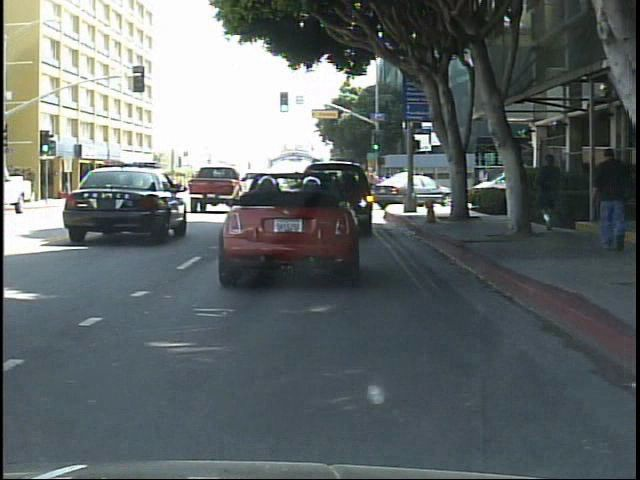person: (592, 141, 636, 260), (532, 146, 570, 236), (133, 175, 152, 202)
